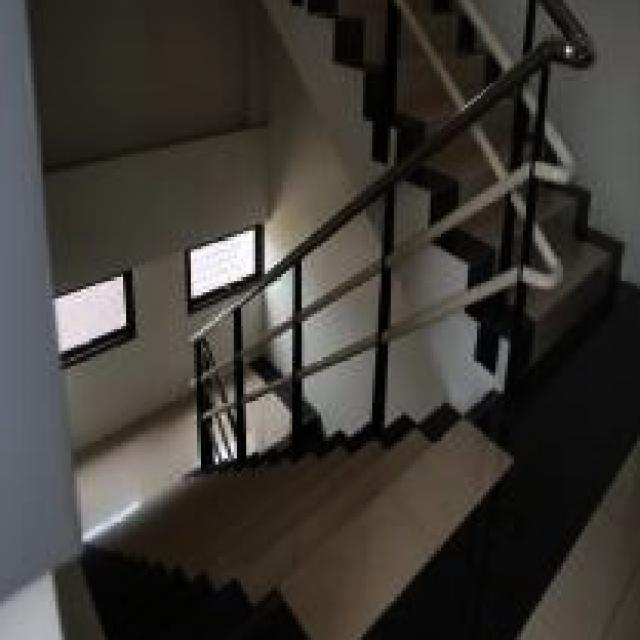downstair: (137, 490, 494, 640)
